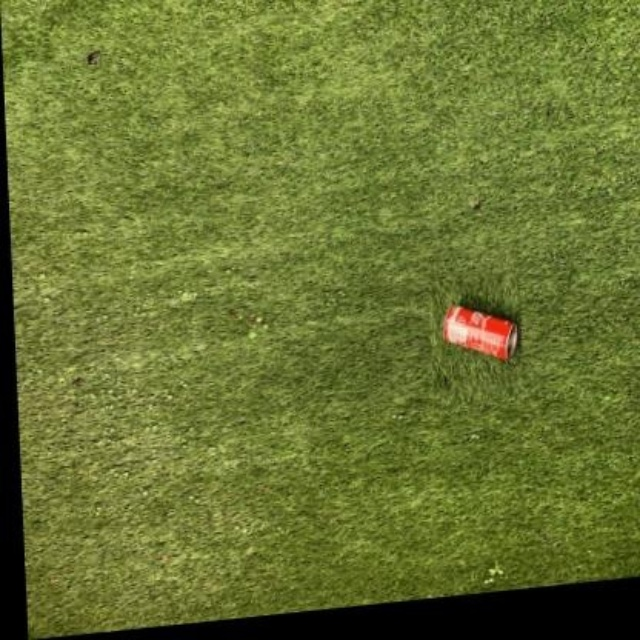trash: (443, 305, 515, 360)
